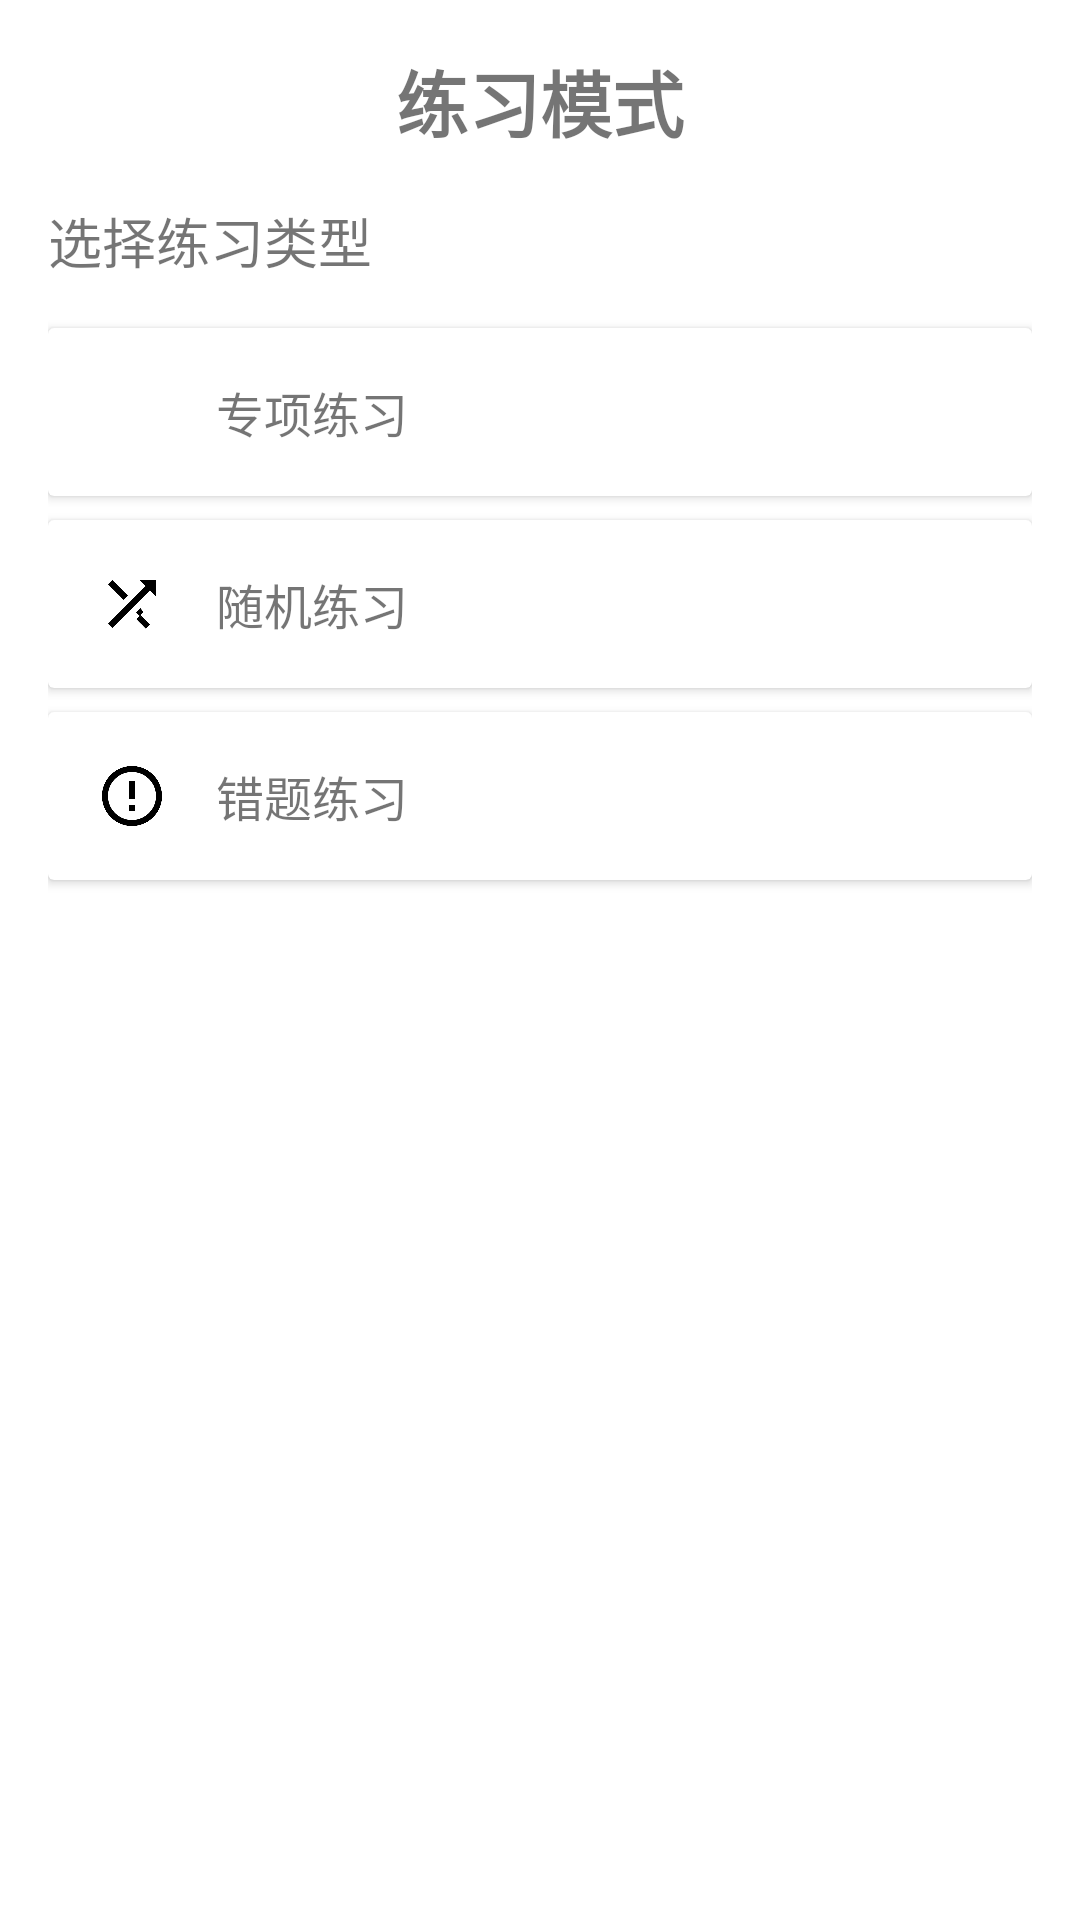

Locate icon controls on the screen. Image size 1080px×1920px, boxes as (x1, y1, x2, y2).
error: (102, 766, 162, 826)
shuffle: (108, 580, 156, 629)
